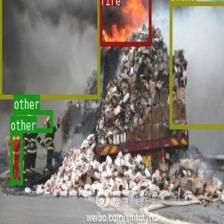fire: (99, 0, 151, 46)
smoke: (0, 0, 100, 98), (169, 1, 224, 128)
